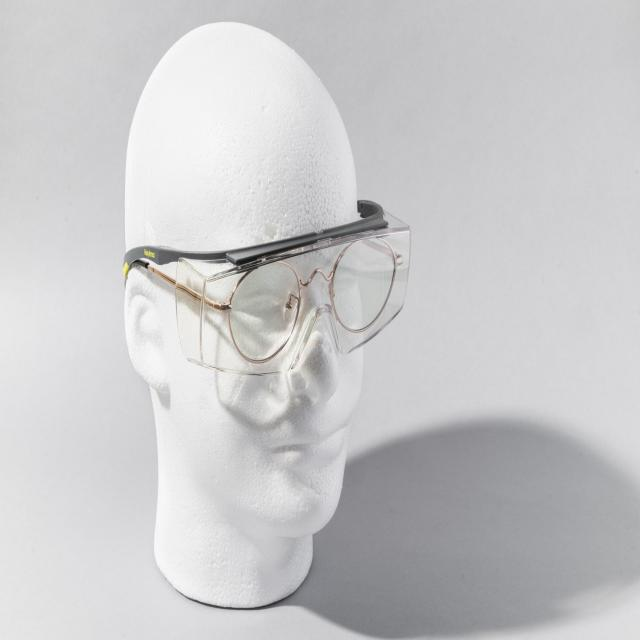Protective Glasses: (158, 233, 414, 359)
